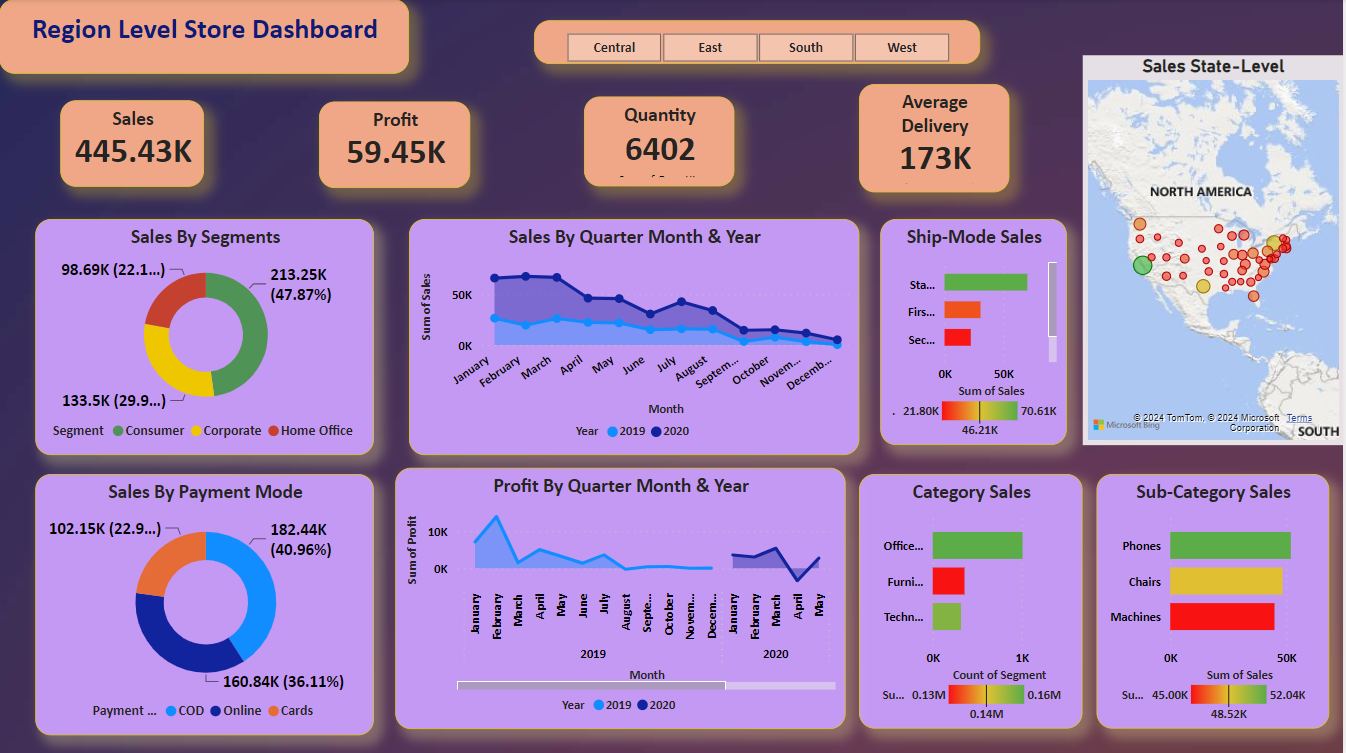

Layout of this report page (visuals, bound fields, positions):
{"tool":"powerbi","page":{"name":"Sales Dashboard","canvas":[1280,720],"ordinal":0},"visuals":[{"type":"clusteredBarChart","title":"Category Sales","fields":{"Category":["SuperStore_Sales_Dataset.Category"],"Y":["CountNonNull(SuperStore_Sales_Dataset.Segment)"]},"box":[818.8,452.2,213,242.8],"z":0},{"type":"clusteredBarChart","title":"Sub-Category Sales","fields":{"Category":["SuperStore_Sales_Dataset.Sub-Category"],"Y":["Sum(SuperStore_Sales_Dataset.Sales)"]},"box":[1044.9,452.2,221.4,242.8],"z":1000},{"type":"clusteredBarChart","title":"Ship-Mode Sales","fields":{"Y":["Sum(SuperStore_Sales_Dataset.Sales)"],"Category":["SuperStore_Sales_Dataset.Ship Mode"]},"box":[839,209.5,177.3,215.4],"z":2000},{"type":"stackedAreaChart","title":"Sales By Quarter Month & Year","fields":{"Y":["Sum(SuperStore_Sales_Dataset.Sales)"],"Category":["SuperStore_Sales_Dataset.Order Date.Variation.Date Hierarchy.Month"],"Series":["SuperStore_Sales_Dataset.Order Date.Variation.Date Hierarchy.Year"]},"box":[390.3,209.5,428.4,224.9],"z":3000},{"type":"stackedAreaChart","title":"Profit By Quarter Month & Year","fields":{"Series":["SuperStore_Sales_Dataset.Order Date.Variation.Date Hierarchy.Year"],"Y":["Sum(SuperStore_Sales_Dataset.Profit)"],"Category":["SuperStore_Sales_Dataset.Order Date.Variation.Date Hierarchy.Year","SuperStore_Sales_Dataset.Order Date.Variation.Date Hierarchy.Month"]},"box":[377.3,446.3,428.4,248.7],"z":4000},{"type":"map","title":"Sales State-Level","fields":{"Category":["SuperStore_Sales_Dataset.State"],"Size":["Sum(SuperStore_Sales_Dataset.Sales)"]},"box":[1031.8,53.6,248.7,371.3],"z":5000},{"type":"donutChart","title":"Sales By Segments","fields":{"Category":["SuperStore_Sales_Dataset.Segment"],"Y":["Sum(SuperStore_Sales_Dataset.Sales)"]},"box":[34.5,209.5,322.5,224.9],"z":6000},{"type":"donutChart","title":"Sales By Payment Mode","fields":{"Y":["Sum(SuperStore_Sales_Dataset.Sales)"],"Category":["SuperStore_Sales_Dataset.Payment Mode"]},"box":[34.5,452.2,322.5,248.7],"z":7000},{"type":"slicer","fields":{"Values":["SuperStore_Sales_Dataset.Region"]},"box":[509.4,20.2,424.9,41.7],"z":8000},{"type":"textbox","box":[0,0,390.3,71.4],"z":9000},{"type":"card","title":"Sales","fields":{"Values":["Sum(SuperStore_Sales_Dataset.Sales)"]},"box":[58.3,96.4,136.9,82.1],"z":10000},{"type":"card","title":"Profit","fields":{"Values":["Sum(SuperStore_Sales_Dataset.Profit)"]},"box":[304.7,97.6,144,82.1],"z":11000},{"type":"card","title":"Quantity","fields":{"Values":["Sum(SuperStore_Sales_Dataset.Quantity)"]},"box":[557,92.8,142.8,85.7],"z":12000},{"type":"card","title":"Average Delivery","fields":{"Values":["Sum(SuperStore_Sales_Dataset.Average_Delivery)"]},"box":[818.8,80.9,142.8,103.5],"z":13000}]}

Visuals, with their boxes in screenshot pixels (x1, y1, x2, y2), scaled from the page's 1280x720 canvas onto the 1346x753 screenshot:
"Category Sales" clusteredBarChart: 861/473/1085/727
"Sub-Category Sales" clusteredBarChart: 1099/473/1332/727
"Ship-Mode Sales" clusteredBarChart: 882/219/1069/444
"Sales By Quarter Month & Year" stackedAreaChart: 410/219/861/454
"Profit By Quarter Month & Year" stackedAreaChart: 397/467/847/727
"Sales State-Level" map: 1085/56/1345/444
"Sales By Segments" donutChart: 36/219/375/454
"Sales By Payment Mode" donutChart: 36/473/375/733
slicer - SuperStore_Sales_Dataset.Region: 536/21/982/65
textbox: 0/0/410/75
"Sales" card: 61/101/205/187
"Profit" card: 320/102/472/188
"Quantity" card: 586/97/736/187
"Average Delivery" card: 861/85/1011/193
